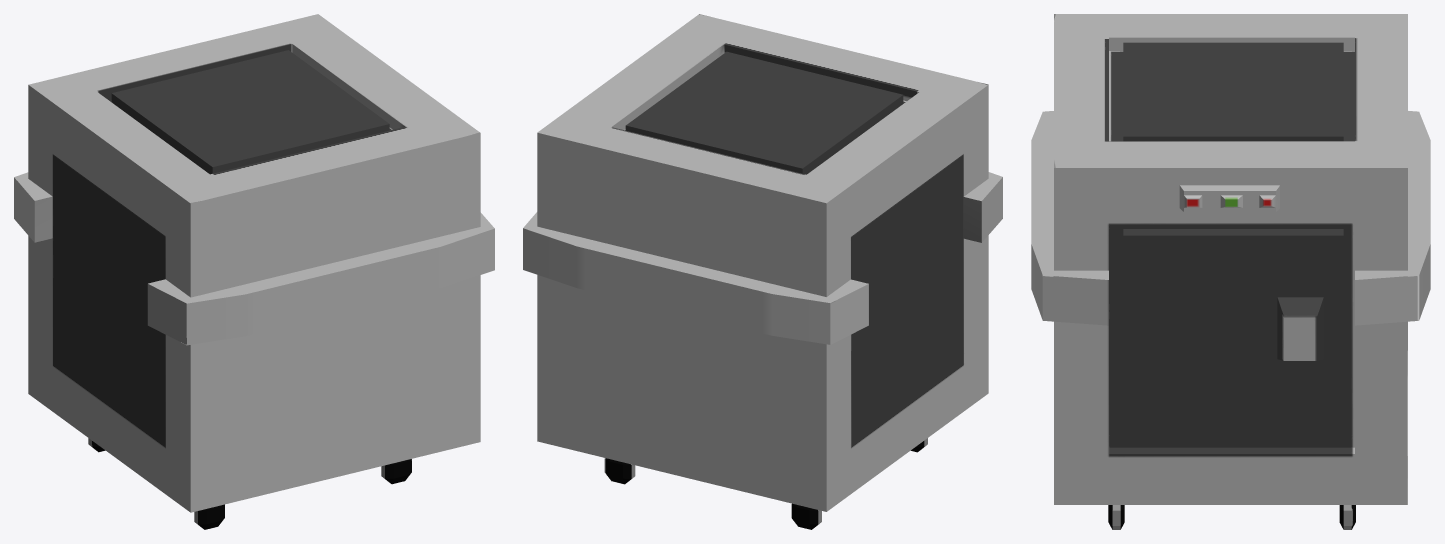
Rendered from Rollcage2.fbx.
The picture shows the model from 3 angles, left to right: view 1: azimuth 30°, elevation 25°; view 2: azimuth 150°, elevation 25°; view 3: azimuth 270°, elevation 25°; orthographic projection. The views are drawn at different scales.
Visible parts, largest first — view 1: pCube7; view 2: pCube7; view 3: pCube7.
Boxes of the visible parts, left/top/right/bottom form: pCube7: left=14, top=14, right=494, bottom=529; pCube7: left=523, top=14, right=1002, bottom=529; pCube7: left=1031, top=14, right=1430, bottom=529.
Size of the model in its own units: 65.53 by 68.05 by 63.48.
Materials: 1 (1 with a texture image).
